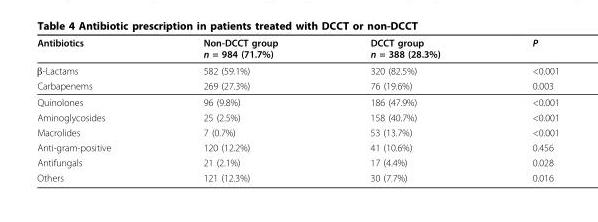table: (36, 36, 558, 182)
table column: (156, 36, 323, 182), (323, 36, 485, 182), (36, 36, 156, 182), (485, 36, 558, 182)
table column header: (36, 36, 558, 61)
table row: (36, 36, 558, 61), (36, 61, 558, 77), (36, 77, 558, 93), (36, 93, 558, 109), (36, 109, 558, 124), (36, 124, 558, 139), (36, 139, 558, 154), (36, 154, 558, 169), (36, 169, 558, 182)
